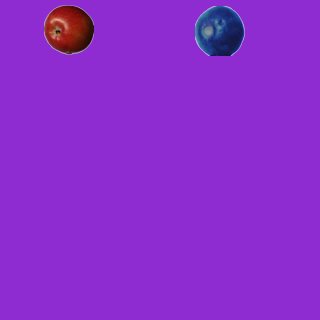Apple Braeburn: (43, 4, 93, 54)
Huckleberry: (194, 5, 244, 55)
